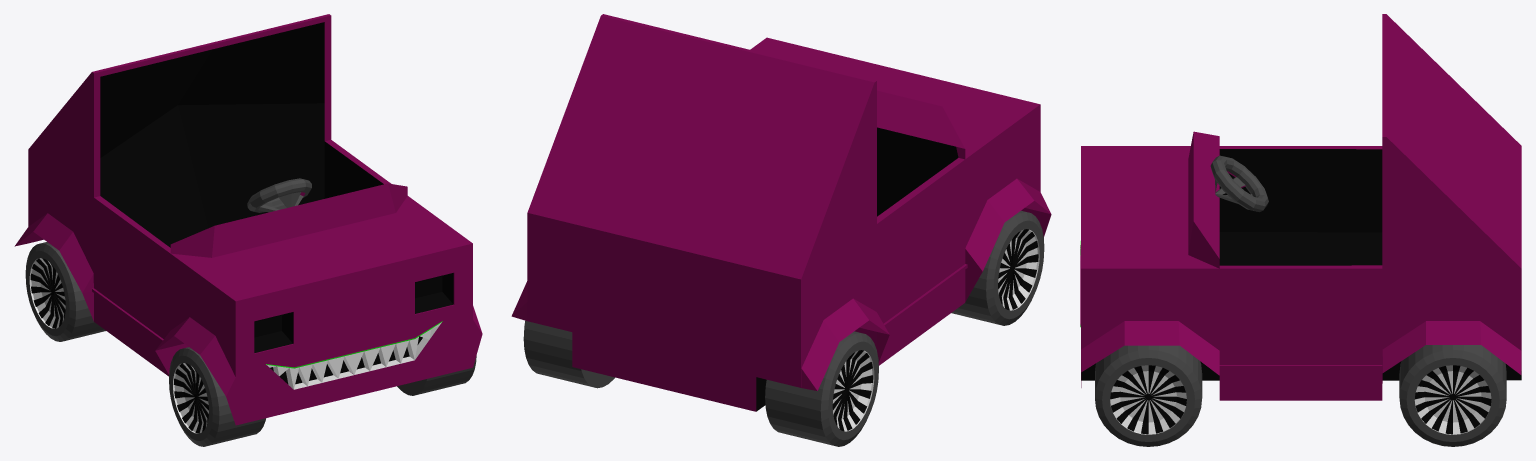
Rendered from coche2.fbx.
3 views of the same model, side by side, from view 1: azimuth 30°, elevation 25°; view 2: azimuth 150°, elevation 25°; view 3: azimuth 270°, elevation 25° (orthographic). The views are drawn at different scales.
Visible parts, largest first — view 1: CHASIS, RUEDA DELANTERA DERECHA, RUEDA TRASERA DERECHA, RUEDA DELANTERA IZQUIERA; view 2: CHASIS, RUEDA TRASERA DERECHA, RUEDA DELANTERA DERECHA, RUEDA TRASRA IZQUIERDA; view 3: CHASIS, RUEDA TRASRA IZQUIERDA, RUEDA DELANTERA IZQUIERA.
Boxes of the visible parts, x1,y1,x2,y2 form: CHASIS: (14,14,482,425); RUEDA DELANTERA DERECHA: (169,347,265,446); RUEDA TRASERA DERECHA: (25,242,105,341); RUEDA DELANTERA IZQUIERA: (397,355,476,395); CHASIS: (511,14,1051,411); RUEDA TRASERA DERECHA: (765,331,878,446); RUEDA DELANTERA DERECHA: (951,210,1044,325); RUEDA TRASRA IZQUIERDA: (523,320,614,388); CHASIS: (1080,14,1521,400); RUEDA TRASRA IZQUIERDA: (1399,345,1506,446); RUEDA DELANTERA IZQUIERA: (1095,345,1202,446).
Bounding box in the file's own units: 226 × 231 × 303.
